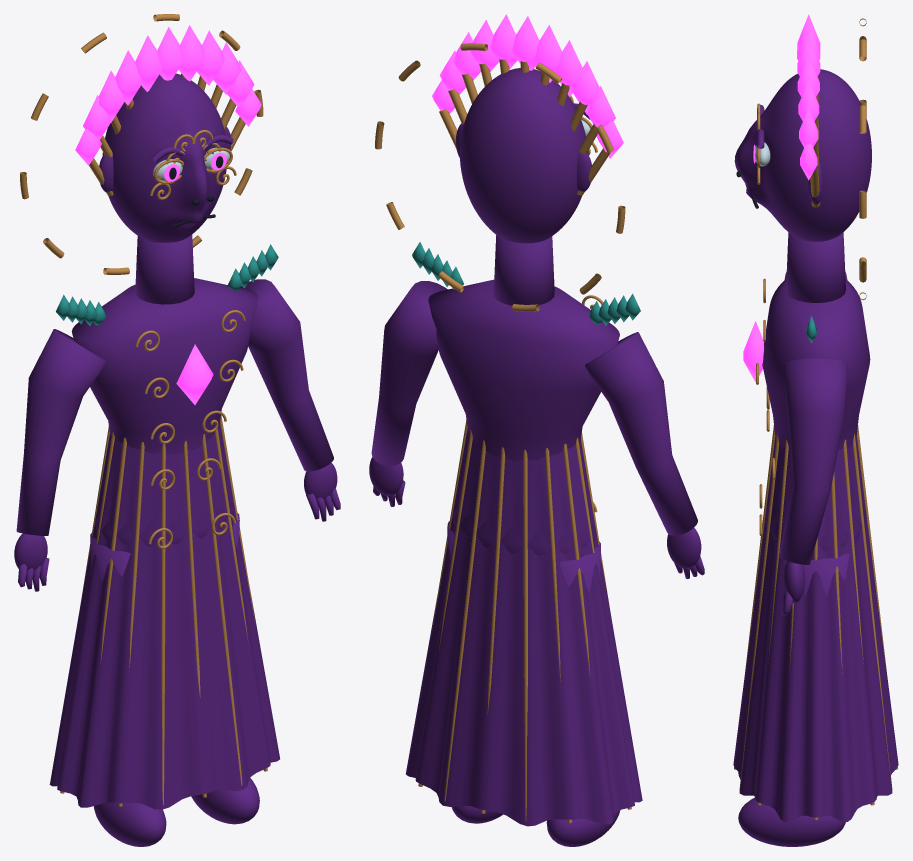
The model's file is diamond-girl.glb.
The picture shows the model from 3 angles, left to right: view 1: azimuth 30°, elevation 25°; view 2: azimuth 150°, elevation 25°; view 3: azimuth 270°, elevation 25°; orthographic projection. The views are drawn at different scales.
Parts seen in each view (by area): view 1: Diamond Girl / purple, Diamond Girl / gold, Diamond Girl / violet, Diamond Girl / teal; view 2: Diamond Girl / purple, Diamond Girl / gold, Diamond Girl / violet, Diamond Girl / teal; view 3: Diamond Girl / purple, Diamond Girl / gold, Diamond Girl / violet.
Part boxes in pixels (x1,y1,x2,y2): Diamond Girl / purple: (14,73,340,846); Diamond Girl / gold: (20,14,267,806); Diamond Girl / violet: (75,25,261,404); Diamond Girl / teal: (56,244,278,325); Diamond Girl / purple: (369,68,704,846); Diamond Girl / gold: (375,43,631,823); Diamond Girl / violet: (432,14,623,158); Diamond Girl / teal: (412,242,640,325); Diamond Girl / purple: (733,69,898,846); Diamond Girl / gold: (734,18,897,819); Diamond Girl / violet: (743,14,820,381).
Bounding box in the file's own units: 1.03 × 2.44 × 0.4567.
